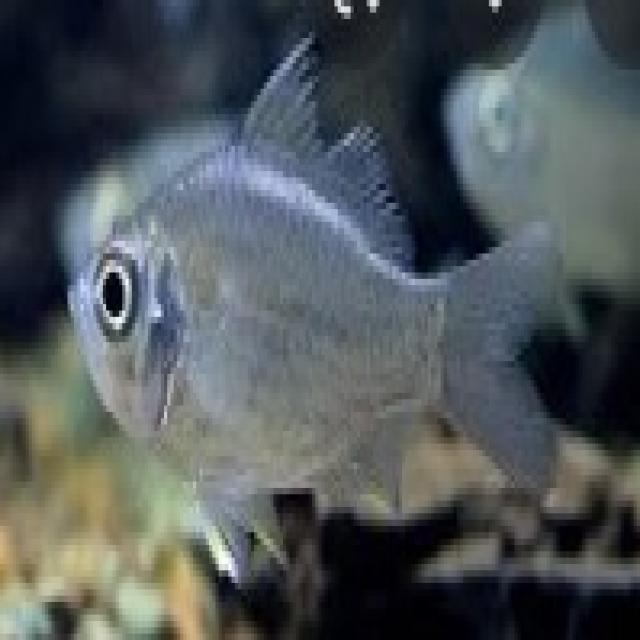Glass-Perchlet: (39, 29, 576, 594)
